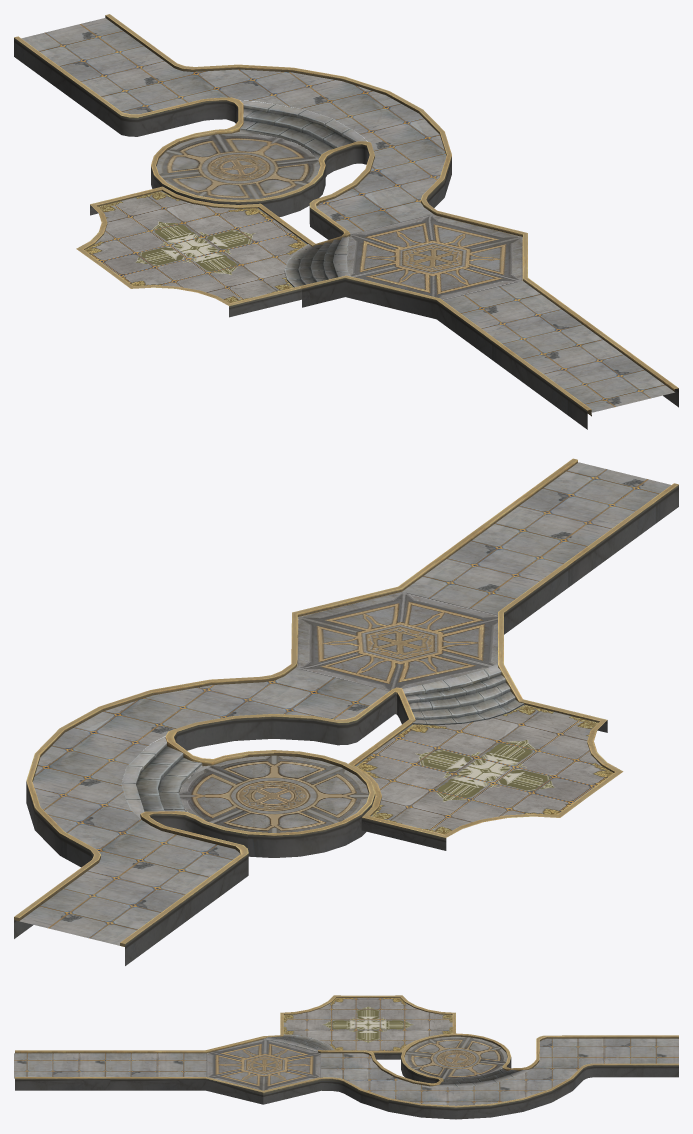
The model's file is Main_Ground_02.FBX.
3 views of the same model, one above another, from view 1: azimuth 30°, elevation 25°; view 2: azimuth 150°, elevation 25°; view 3: azimuth 270°, elevation 25° (orthographic). The views are drawn at different scales.
Parts seen in each view (by area): view 1: Main_Ground_02_01, Main_Ground_02_04, Main_Ground_02_03, Main_Ground_02_02; view 2: Main_Ground_02_01, Main_Ground_02_04, Main_Ground_02_03, Main_Ground_02_02; view 3: Main_Ground_02_01, Main_Ground_02_04, Main_Ground_02_03, Main_Ground_02_02.
Boxes of the visible parts, <box> form: Main_Ground_02_01: <box>14,14,678,429</box>; Main_Ground_02_04: <box>21,18,674,412</box>; Main_Ground_02_03: <box>156,133,522,300</box>; Main_Ground_02_02: <box>232,100,366,287</box>; Main_Ground_02_01: <box>14,458,678,965</box>; Main_Ground_02_04: <box>19,462,670,945</box>; Main_Ground_02_03: <box>179,591,497,832</box>; Main_Ground_02_02: <box>121,664,523,818</box>; Main_Ground_02_01: <box>15,995,678,1119</box>; Main_Ground_02_04: <box>14,1038,678,1105</box>; Main_Ground_02_03: <box>206,1036,507,1090</box>; Main_Ground_02_02: <box>262,1034,530,1087</box>.
Size of the model in its own units: 22.98 by 1.84 by 53.78.
